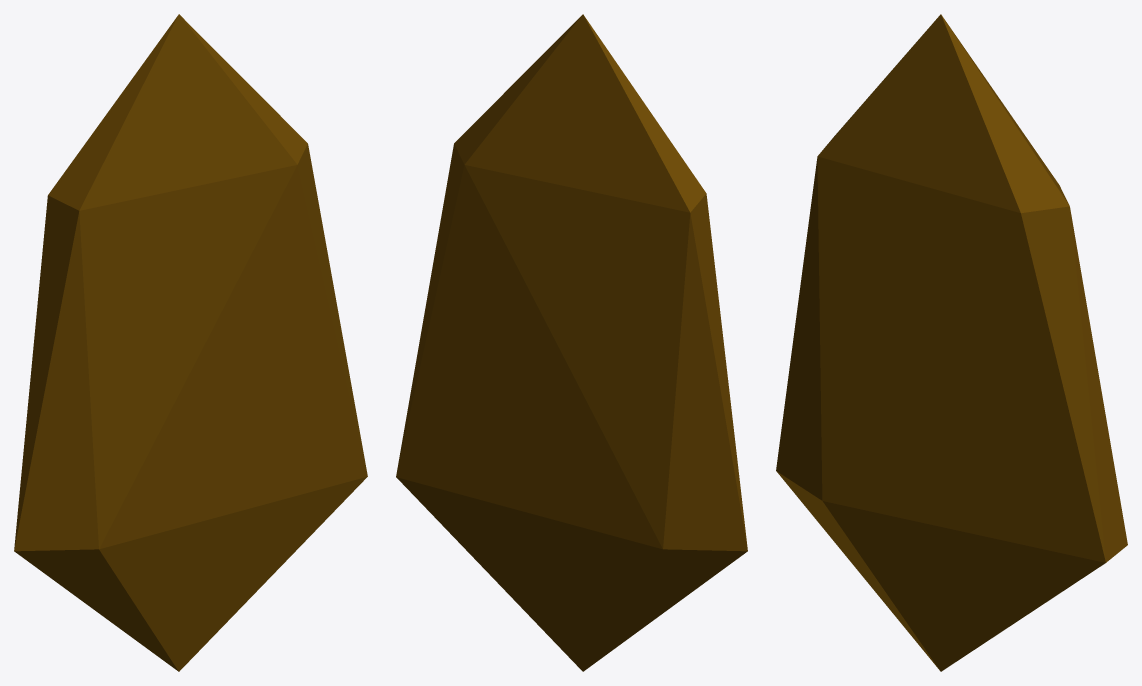
Rendered from Seed_3.fbx.
3 views of the same model, side by side, from view 1: azimuth 30°, elevation 25°; view 2: azimuth 150°, elevation 25°; view 3: azimuth 330°, elevation 25° (orthographic).
Visible parts, largest first — view 1: Icosphere; view 2: Icosphere; view 3: Icosphere.
Part boxes in pixels (x1,y1,x2,y2): Icosphere: (14,14,367,671); Icosphere: (396,14,747,671); Icosphere: (776,14,1127,671).
Size of the model in its own units: 74.27 by 137 by 14.5.
